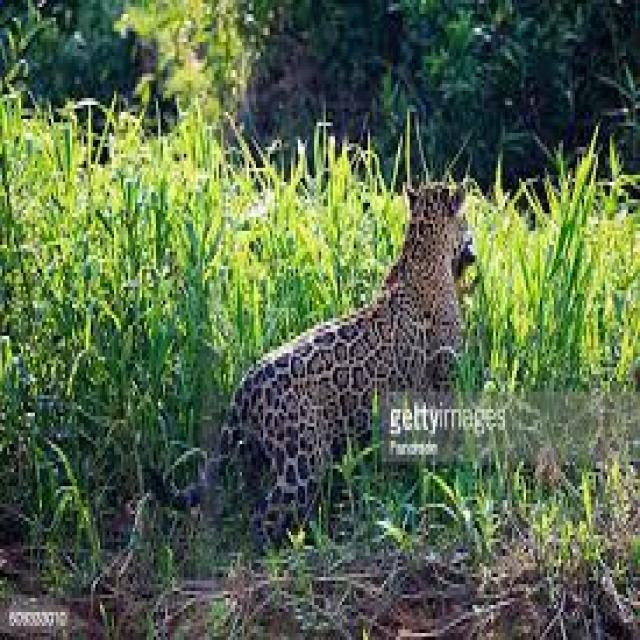Jaguar: (179, 195, 496, 510)
